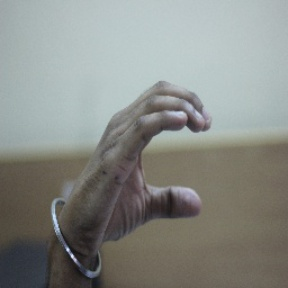C: (95, 78, 228, 223)
